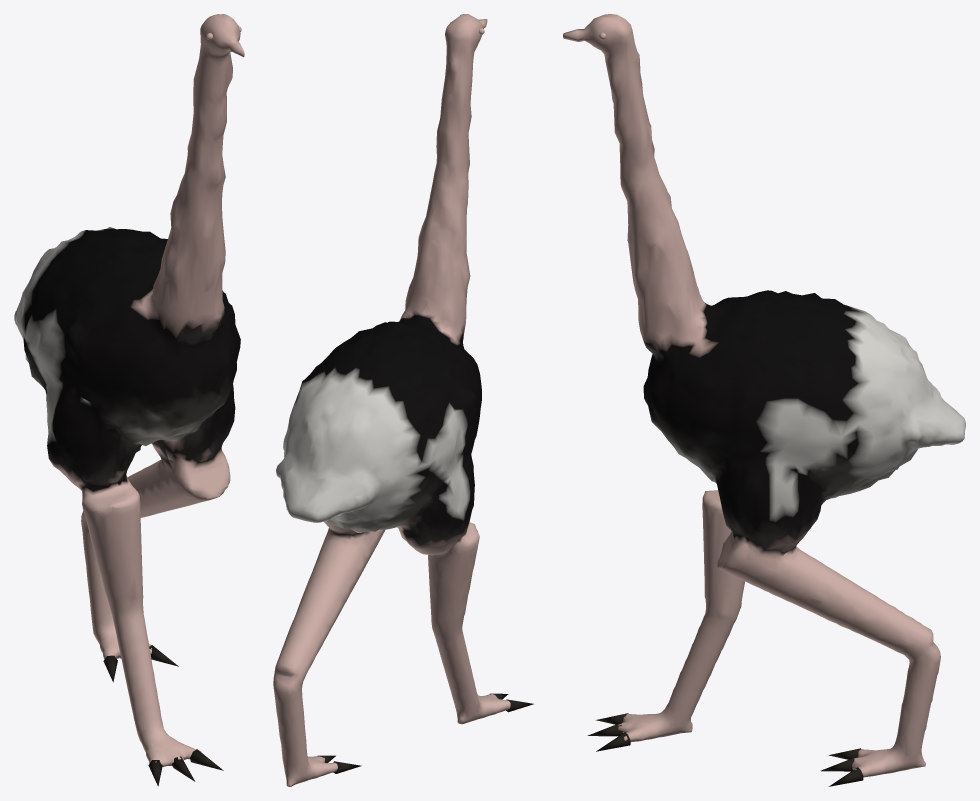
Rendered from StruthioCamelus.fbx.
3 renders of one model, left to right at view 1: azimuth 30°, elevation 25°; view 2: azimuth 150°, elevation 25°; view 3: azimuth 270°, elevation 25°, orthographic. The views are drawn at different scales.
Visible parts, largest first — view 1: StruthioCamelus; view 2: StruthioCamelus; view 3: StruthioCamelus.
Part boxes in pixels (<box>): StruthioCamelus: <box>14,14,244,786</box>; StruthioCamelus: <box>273,14,533,786</box>; StruthioCamelus: <box>563,14,965,786</box>.
Bounding box in the file's own units: 0.5705 × 2.38 × 1.18.
